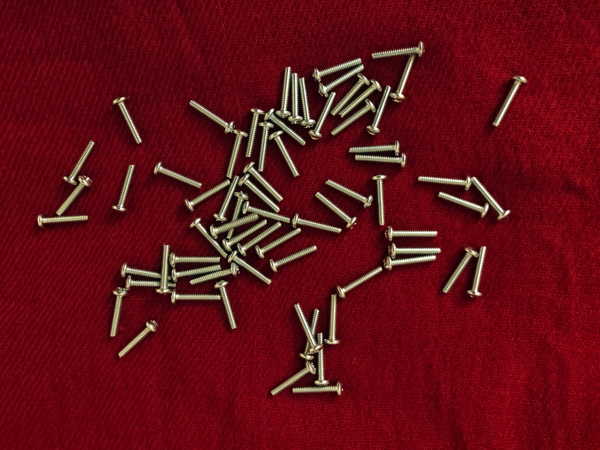longscrew: (491, 73, 528, 129), (470, 174, 512, 223), (329, 96, 377, 137), (440, 247, 480, 296), (188, 96, 237, 136), (237, 173, 282, 215), (54, 173, 95, 219), (315, 190, 359, 232), (241, 161, 285, 203), (338, 78, 383, 118), (263, 109, 309, 148), (183, 177, 231, 214), (222, 217, 270, 254), (111, 95, 145, 147), (336, 265, 385, 301), (331, 73, 371, 117), (237, 220, 284, 257), (62, 138, 98, 186), (189, 217, 229, 260), (117, 320, 161, 359), (269, 361, 318, 396), (226, 250, 273, 286), (318, 62, 366, 97), (437, 190, 491, 221), (255, 226, 304, 259), (152, 160, 204, 191), (268, 130, 300, 180), (390, 49, 418, 105), (325, 178, 375, 209), (308, 90, 337, 142), (268, 244, 320, 273), (293, 302, 322, 353), (366, 83, 393, 137), (312, 56, 364, 84), (111, 160, 138, 213), (210, 213, 261, 241), (224, 128, 251, 180), (213, 174, 241, 224), (241, 200, 293, 226), (224, 191, 251, 241), (214, 280, 239, 332), (242, 106, 266, 159), (371, 40, 428, 62), (189, 262, 241, 286), (467, 245, 489, 300), (291, 213, 346, 235), (300, 308, 321, 362), (108, 286, 129, 338), (171, 263, 224, 283), (383, 253, 438, 272), (256, 121, 276, 173), (120, 262, 174, 281), (417, 174, 474, 192), (298, 75, 317, 129), (323, 291, 341, 347), (371, 174, 389, 229), (384, 226, 441, 243), (34, 213, 90, 230), (287, 73, 305, 125), (388, 242, 443, 259), (276, 64, 293, 119), (170, 289, 223, 306), (349, 139, 402, 156), (291, 381, 345, 397), (156, 243, 172, 295), (353, 153, 408, 168), (315, 333, 330, 387), (125, 276, 178, 291), (169, 253, 221, 268)
